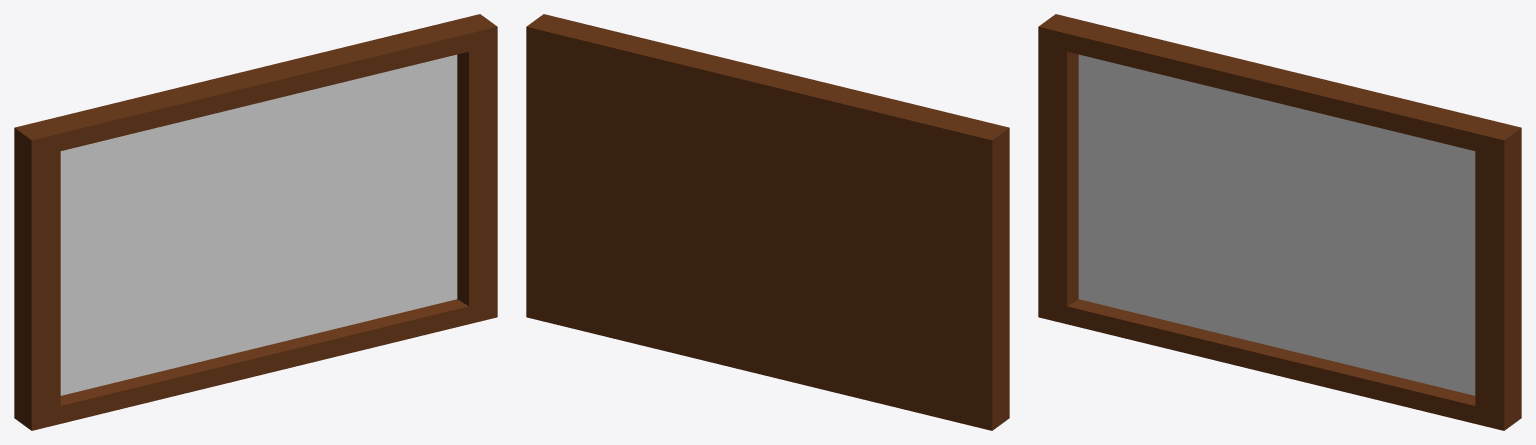
File: CtrlAlt_Moldure_1.fbx
The picture shows the model from 3 angles, left to right: view 1: azimuth 30°, elevation 25°; view 2: azimuth 150°, elevation 25°; view 3: azimuth 330°, elevation 25°; orthographic projection.
Parts seen in each view (by area): view 1: Cube; view 2: Cube; view 3: Cube.
Boxes of the visible parts, <box> form: Cube: <box>14,14,497,430</box>; Cube: <box>526,14,1009,430</box>; Cube: <box>1038,14,1521,430</box>.
Size of the model in its own units: 336 by 200 by 21.69.
